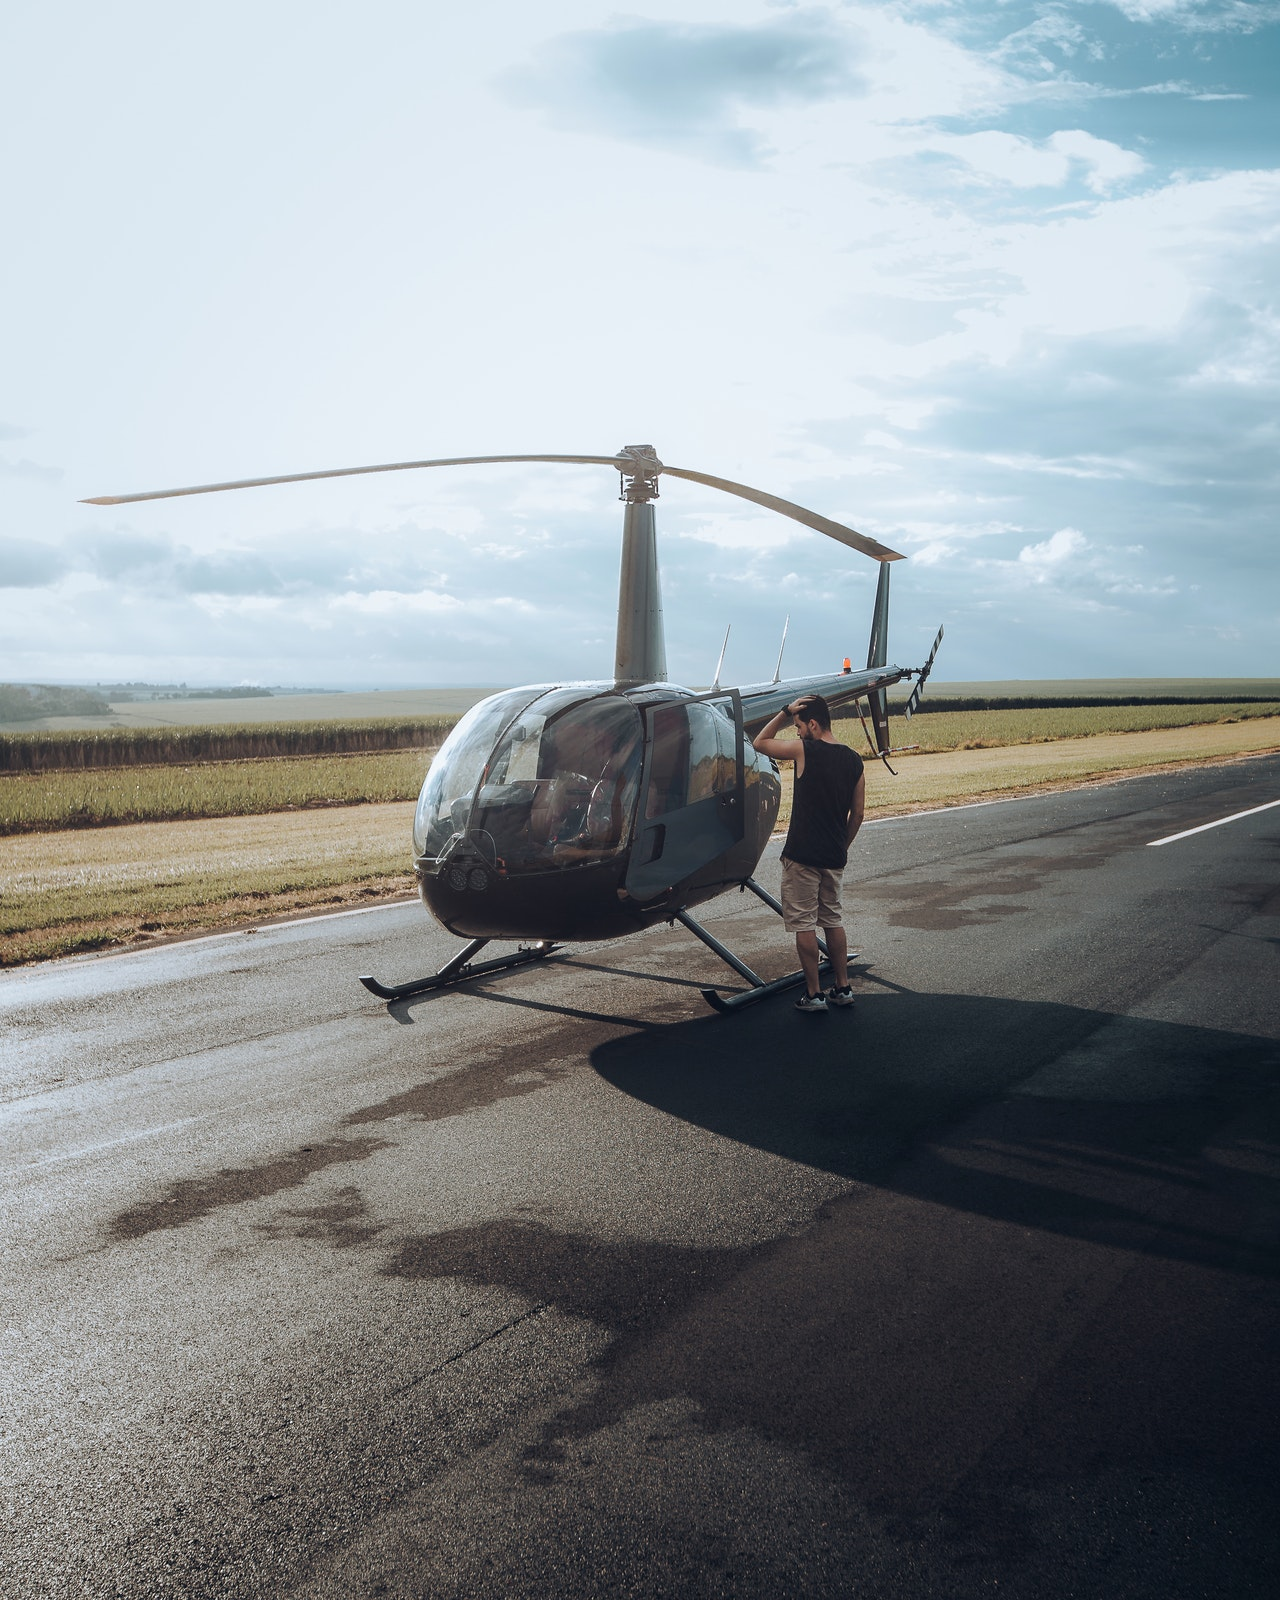heli: (71, 440, 940, 1010)
